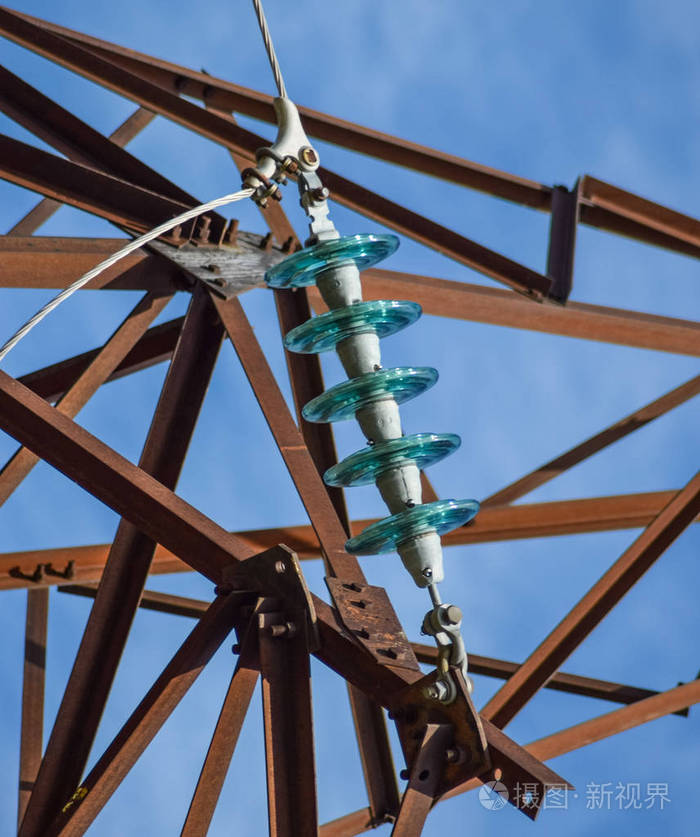insulator: (263, 233, 476, 550)
